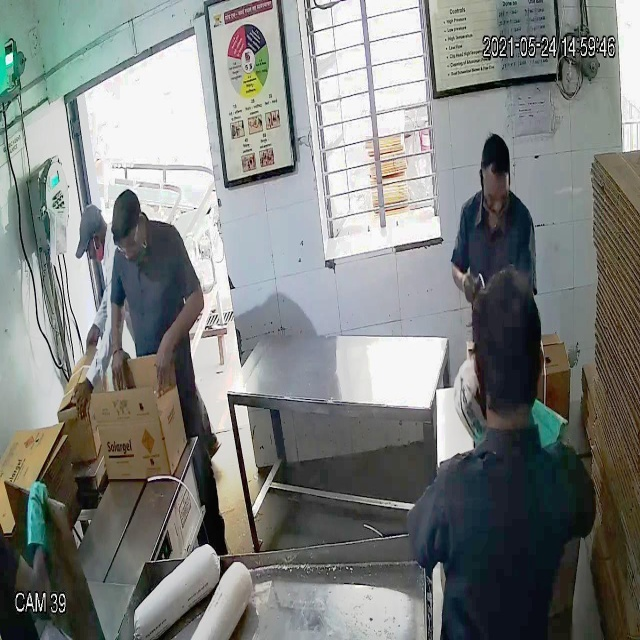Gafas: (111, 226, 140, 256)
